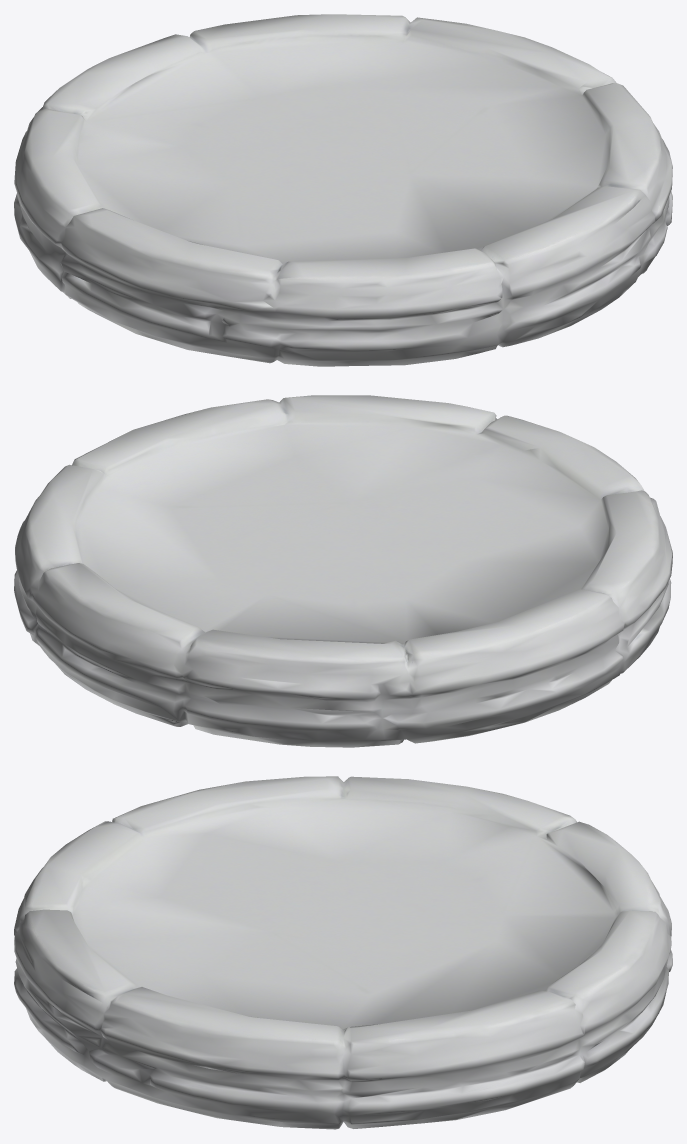
3 renders of one model, top to bottom at view 1: azimuth 30°, elevation 25°; view 2: azimuth 150°, elevation 25°; view 3: azimuth 270°, elevation 25°, orthographic.
Visible parts, largest first — view 1: Mesh_0; view 2: Mesh_0; view 3: Mesh_0.
Part boxes in pixels (box(x1,y1,x2,y2)): Mesh_0: box(14, 14, 672, 366); Mesh_0: box(14, 395, 672, 747); Mesh_0: box(14, 776, 672, 1129).
Size of the model in its own units: 200 by 31.07 by 200.
1 material, 1 textured.
